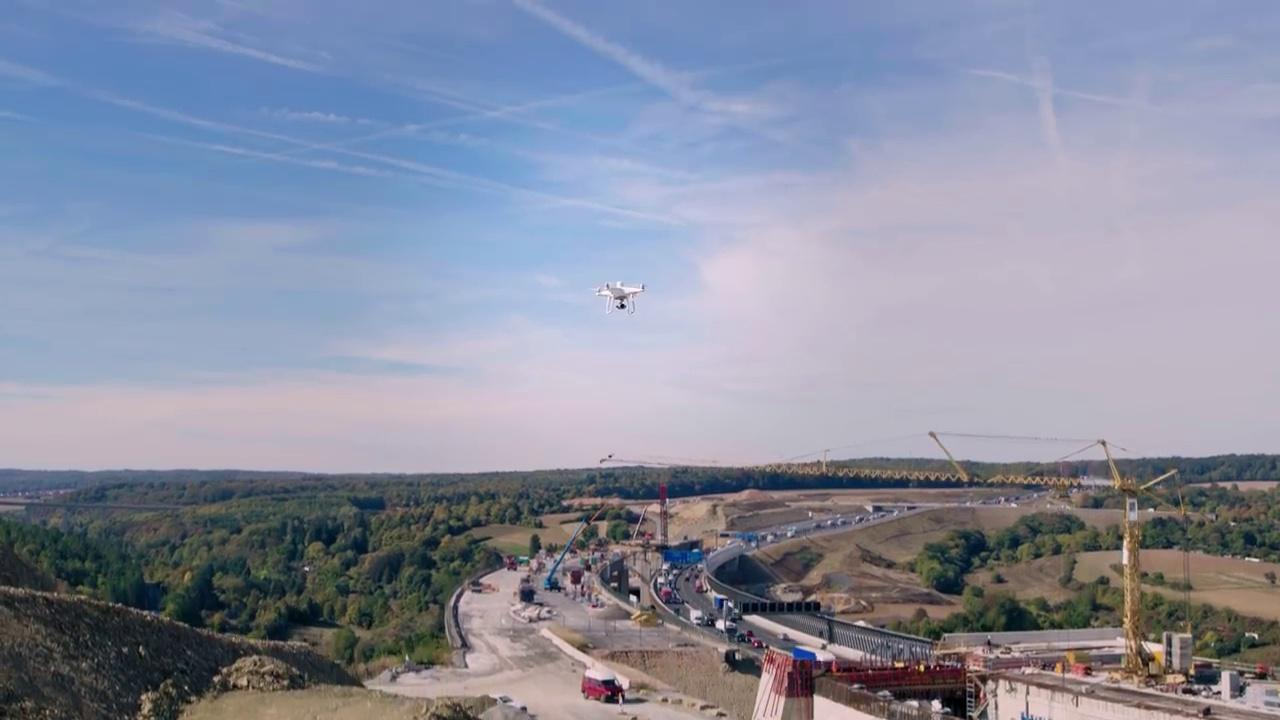drone: (587, 277, 653, 315)
